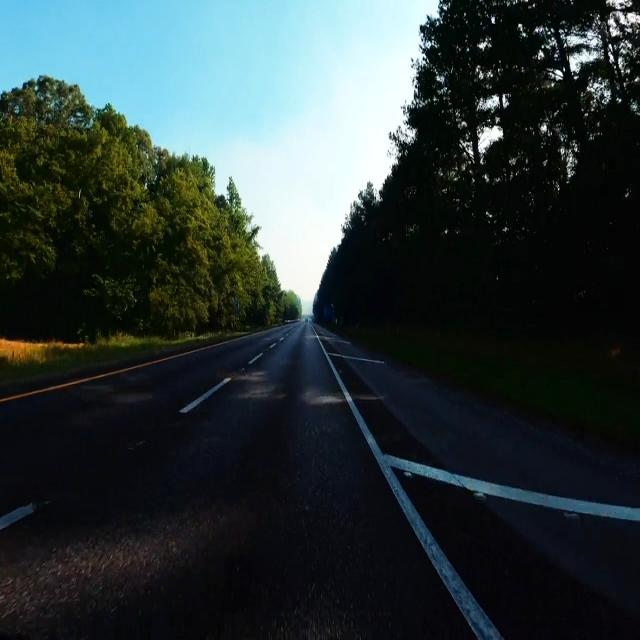lane: (325, 352, 640, 639), (181, 378, 230, 413), (0, 502, 36, 530)
road: (0, 322, 473, 637), (333, 358, 640, 505), (397, 471, 640, 637)
